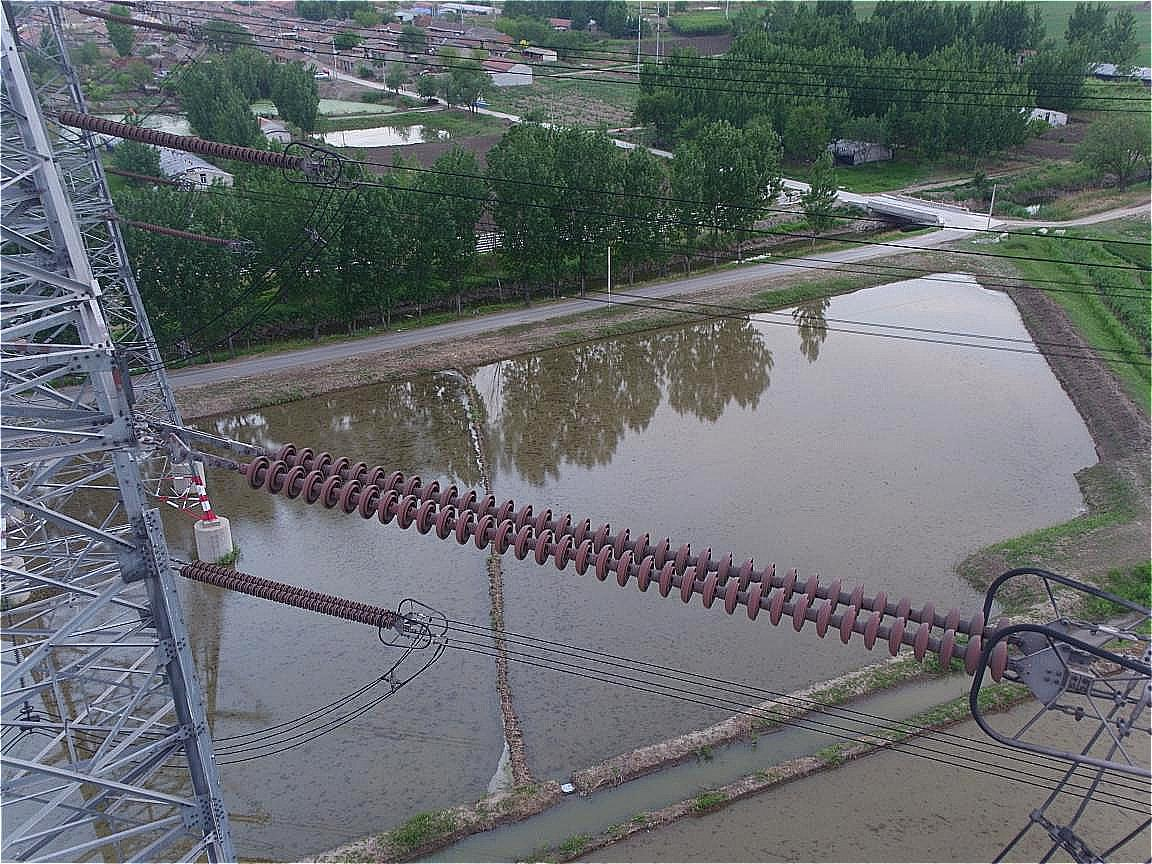insultor1: (227, 429, 1021, 670)
insultor2: (51, 100, 316, 181), (173, 554, 408, 638)
